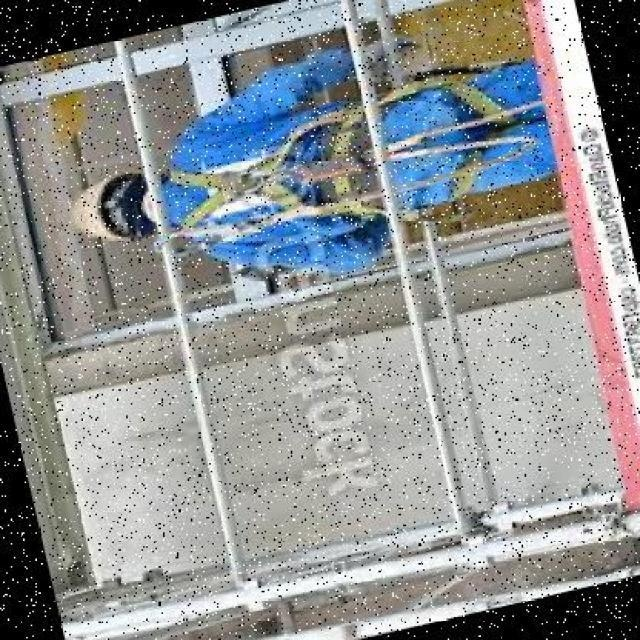Arnes_seguridad: (146, 54, 540, 267)
